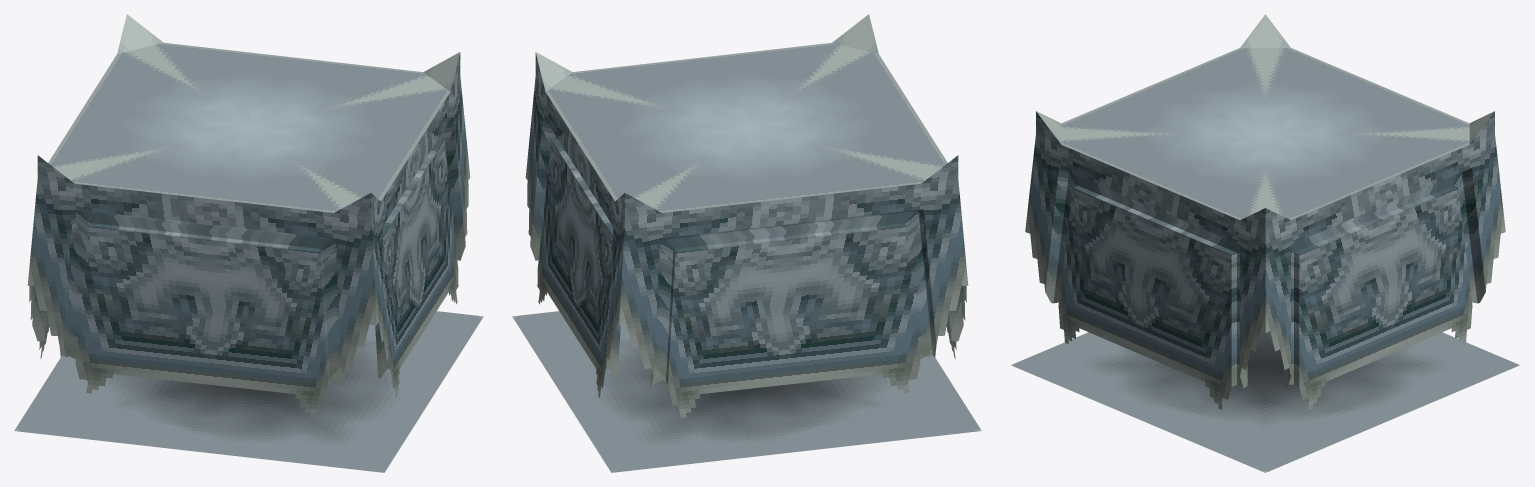
File: pedestal.obj
3 renders of one model, left to right at view 1: azimuth 30°, elevation 25°; view 2: azimuth 150°, elevation 25°; view 3: azimuth 270°, elevation 25°, orthographic. The views are drawn at different scales.
Bounding box in the file's own units: 200 × 110 × 200.
